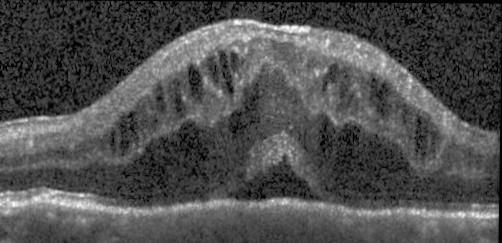intraretinal_cyst: (117, 119, 210, 200), (330, 125, 409, 191), (229, 84, 260, 133), (169, 79, 191, 119), (188, 65, 207, 103), (218, 50, 234, 94), (117, 113, 131, 156), (321, 61, 340, 92), (318, 118, 333, 157), (137, 94, 151, 135), (338, 67, 355, 98), (376, 82, 389, 120), (205, 56, 220, 83), (128, 112, 140, 143), (155, 84, 167, 115), (414, 113, 422, 156), (368, 76, 378, 110), (429, 122, 439, 153), (422, 113, 429, 156), (350, 97, 362, 116), (109, 130, 117, 154), (346, 88, 356, 107), (150, 112, 160, 130), (230, 52, 238, 71), (147, 98, 153, 111)
neuroepithelium_detachment: (225, 149, 326, 203)
